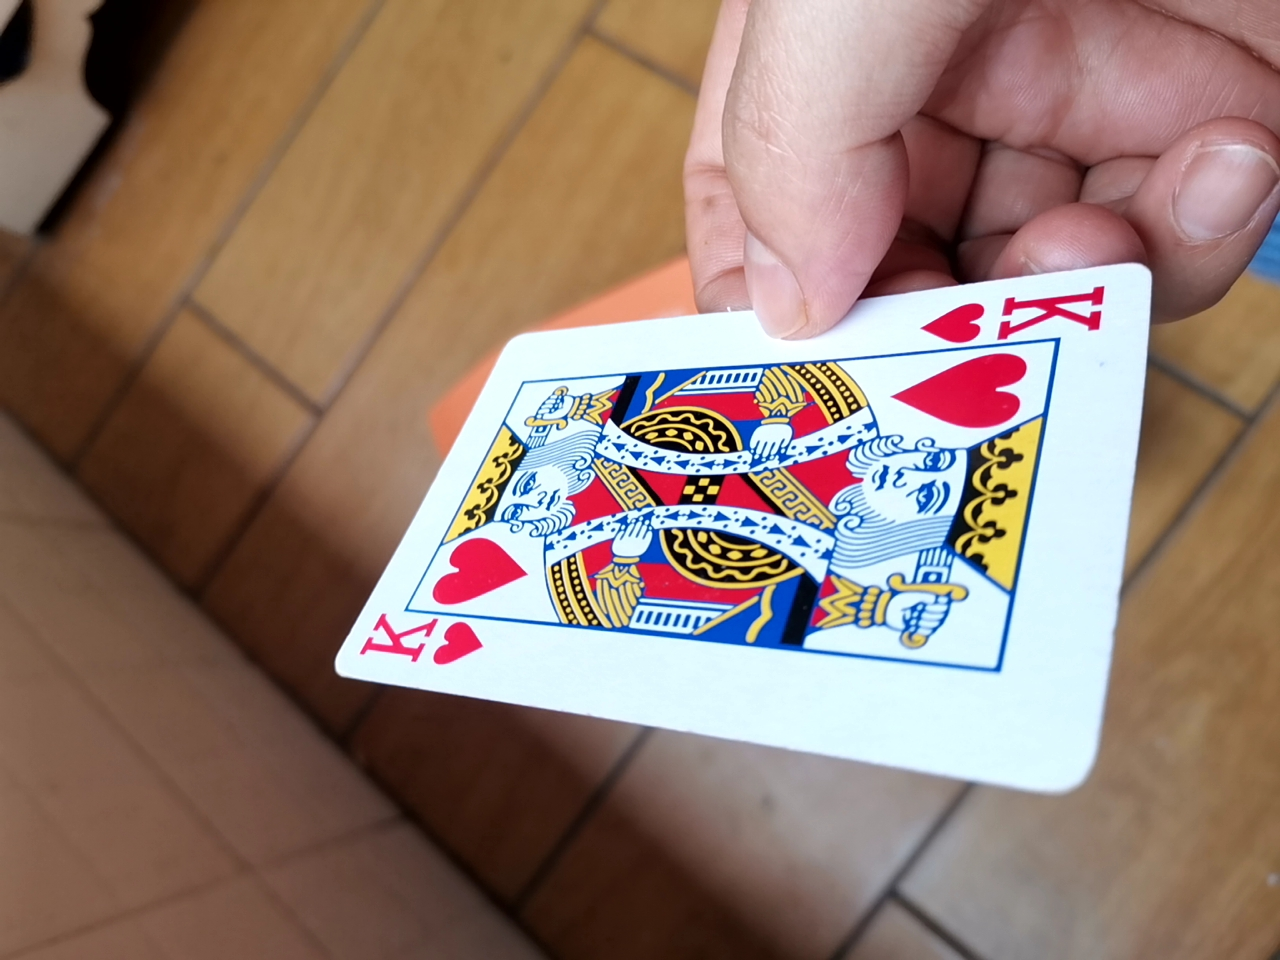hx k: (323, 264, 1139, 783)
